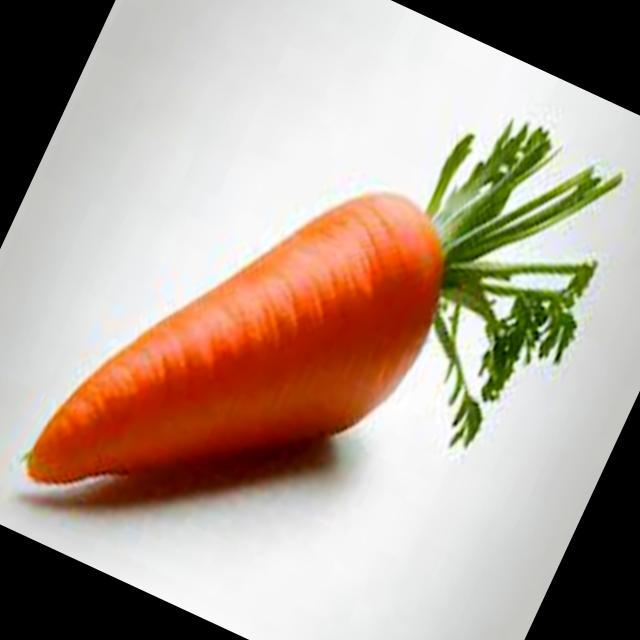carrot: (28, 122, 621, 482)
